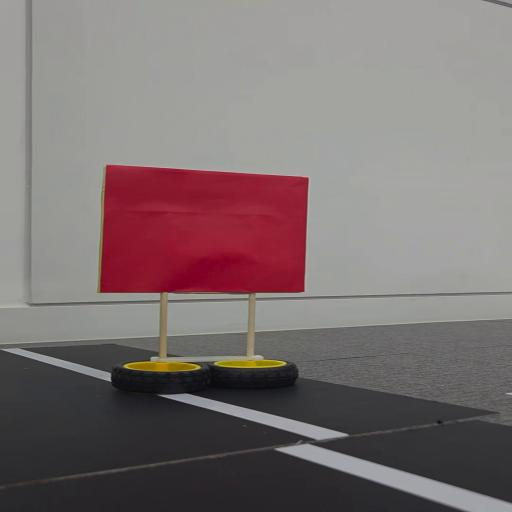Sign_A: (85, 162, 312, 387)
